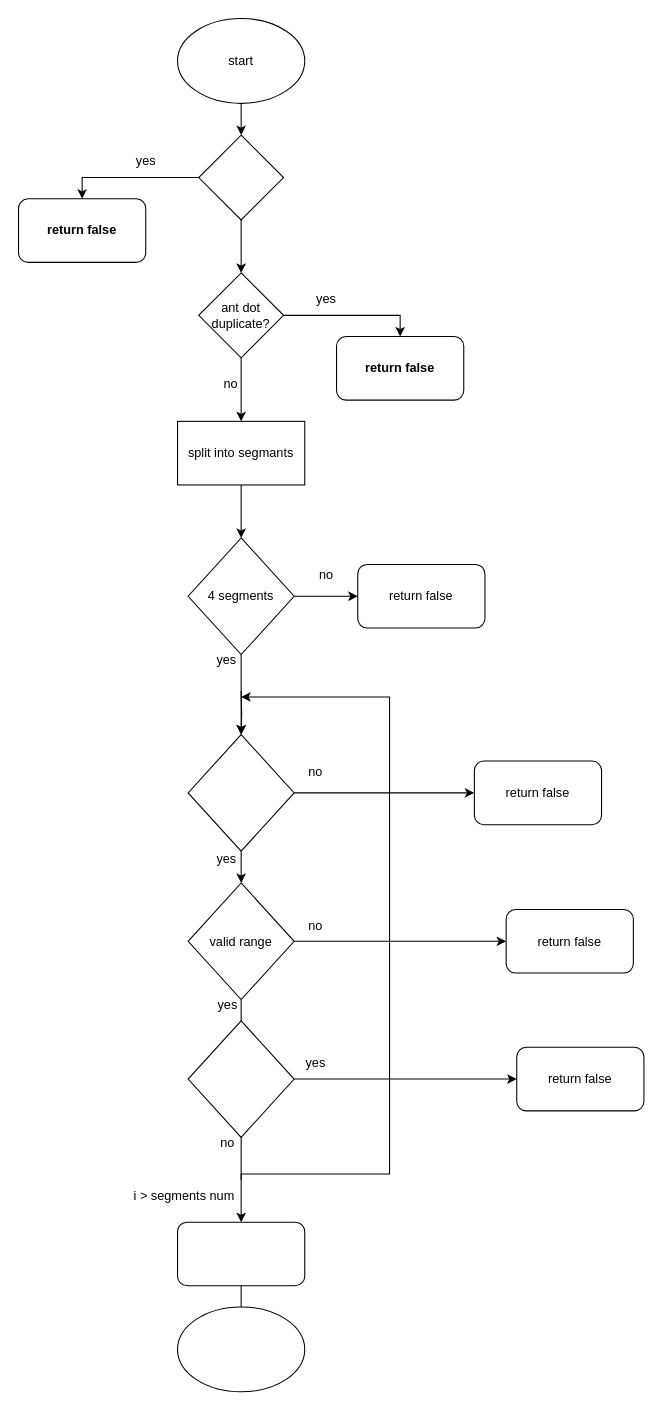
Image size: 662x1411. Some labels were removed from this diagram. Each missing label, with the centre of its shape:
Any Spaces?: point 241,177
end: point 240,1349
leading zero: point 240,1078
segments contain only degits: point 240,792
teturn true: point 240,1253
